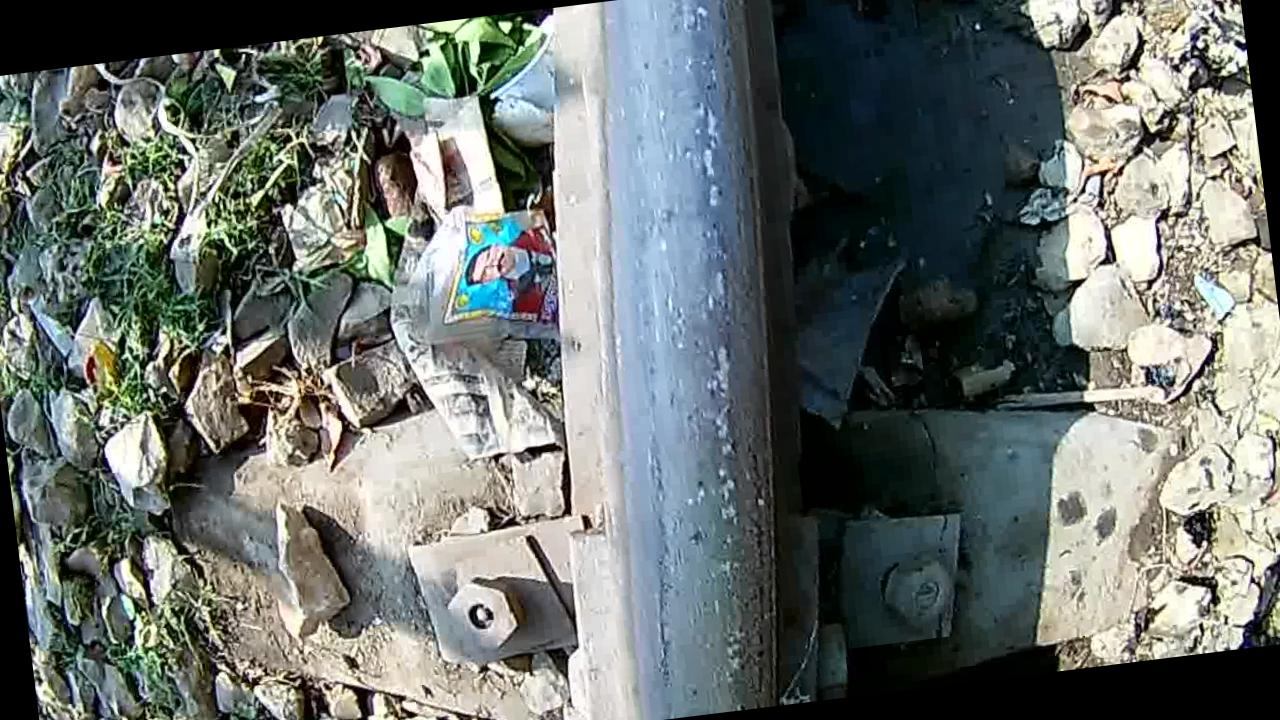clip_missing: (566, 0, 828, 720)
